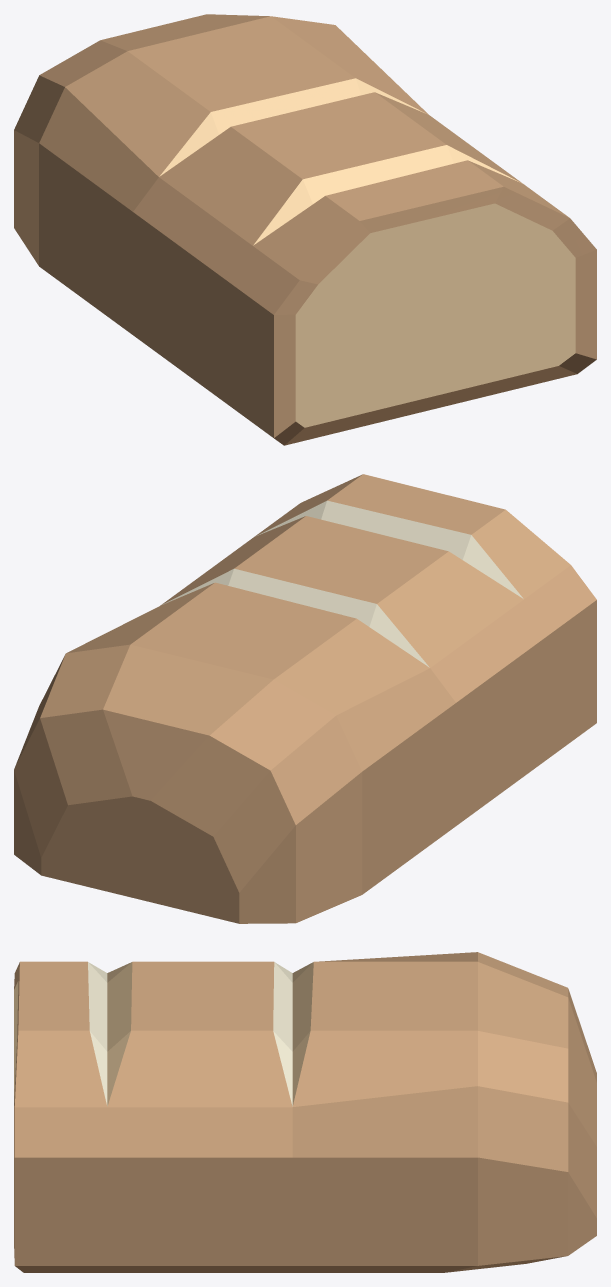
Rendered from Bread_02.glb.
3 renders of one model, top to bottom at view 1: azimuth 30°, elevation 25°; view 2: azimuth 150°, elevation 25°; view 3: azimuth 270°, elevation 25°, orthographic.
Visible parts, largest first — view 1: Bread_02; view 2: Bread_02; view 3: Bread_02.
Boxes of the visible parts, left/top/right/bottom form: Bread_02: left=14, top=14, right=596, bottom=445; Bread_02: left=14, top=474, right=596, bottom=923; Bread_02: left=14, top=952, right=596, bottom=1272.
Size of what is drawn, in the model's own units: 0.1166 by 0.0717 by 0.1846.
1 material, 1 textured.
